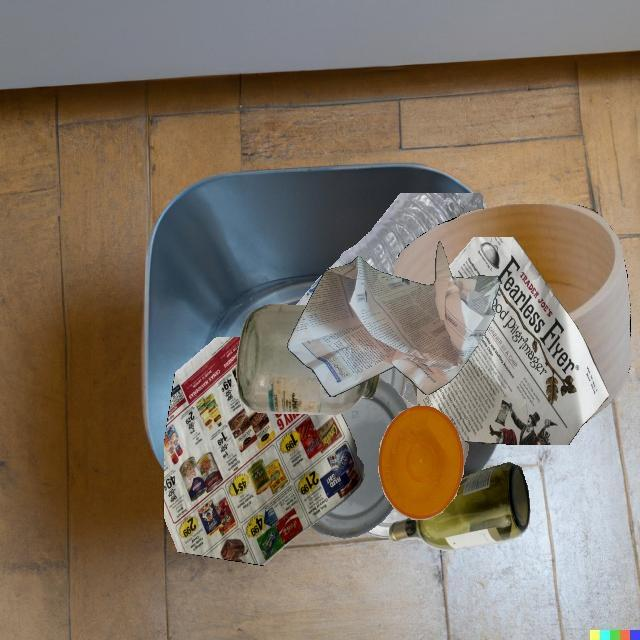combustible waste: (394, 204, 631, 424)
glass: (236, 304, 380, 414), (389, 462, 530, 551)
paper: (164, 337, 365, 565), (417, 237, 609, 445), (287, 241, 500, 397), (386, 383, 463, 441), (460, 441, 469, 466)
plastic: (311, 380, 407, 538), (326, 193, 483, 276), (378, 406, 464, 520), (366, 507, 408, 538), (379, 367, 406, 397), (403, 381, 417, 406)
